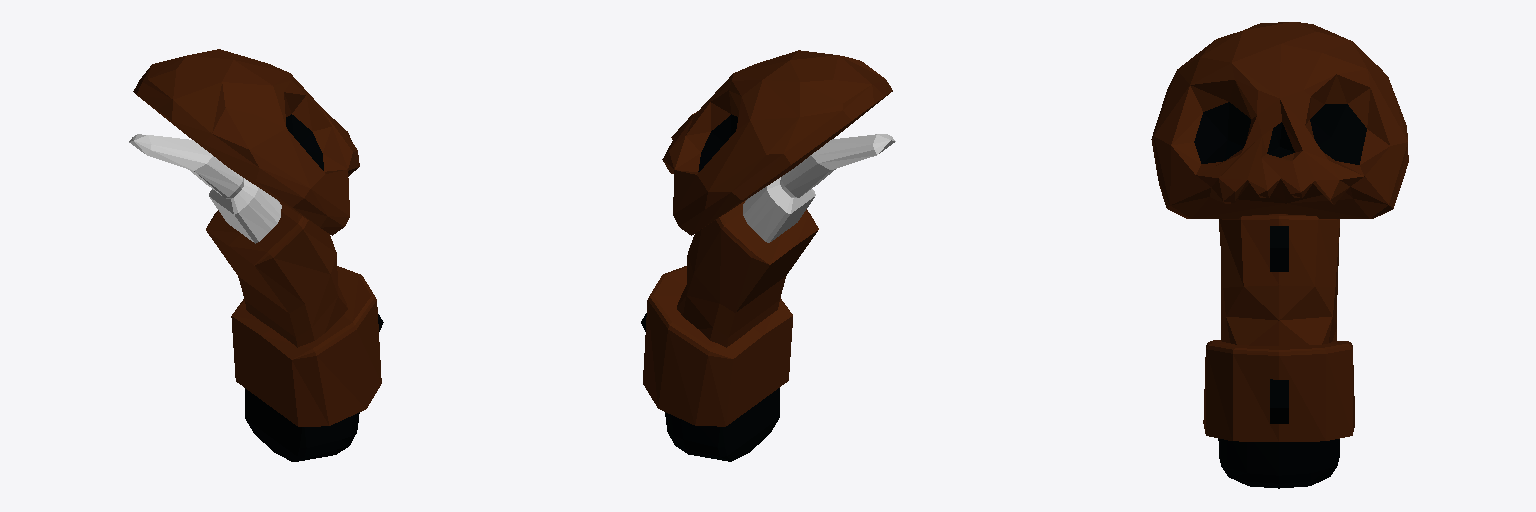
Rendered from character_skeletonKing_armLeft.obj.
The picture shows the model from 3 angles: view 1: azimuth 30°, elevation 25°; view 2: azimuth 150°, elevation 25°; view 3: azimuth 270°, elevation 25°; orthographic projection.
Parts seen in each view (by area): view 1: character_skeletonKing_armLeft_Cube.8125; view 2: character_skeletonKing_armLeft_Cube.8125; view 3: character_skeletonKing_armLeft_Cube.8125.
Part boxes in pixels (left/top/right/bottom): character_skeletonKing_armLeft_Cube.8125: left=129, top=49, right=383, bottom=461; character_skeletonKing_armLeft_Cube.8125: left=641, top=50, right=895, bottom=461; character_skeletonKing_armLeft_Cube.8125: left=1151, top=22, right=1408, bottom=488.
Bounding box in the file's own units: 0.417 × 0.6548 × 0.3792.